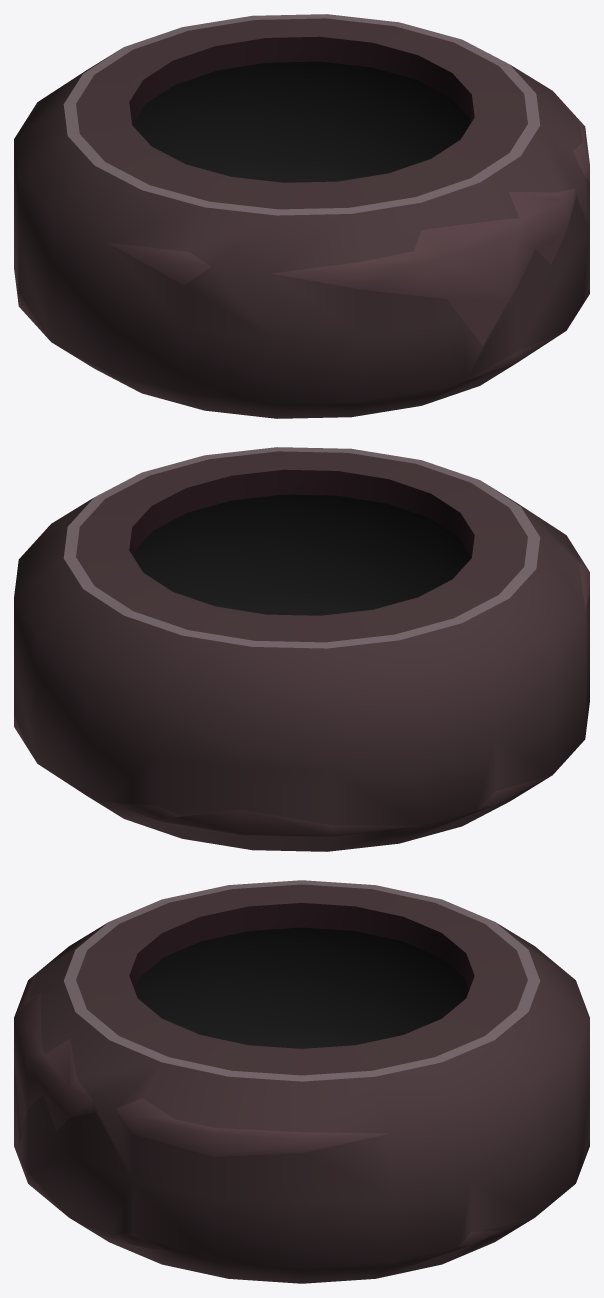
File: SM_Roue.fbx
The picture shows the model from 3 angles, top to bottom: view 1: azimuth 30°, elevation 25°; view 2: azimuth 150°, elevation 25°; view 3: azimuth 270°, elevation 25°; orthographic projection.
Visible parts, largest first — view 1: Cylinder.001; view 2: Cylinder.001; view 3: Cylinder.001.
Boxes of the visible parts, <box> form: Cylinder.001: <box>14,14,589,418</box>; Cylinder.001: <box>14,447,589,851</box>; Cylinder.001: <box>14,880,589,1283</box>.
Bounding box in the file's own units: 3.1 × 1.26 × 3.1.
